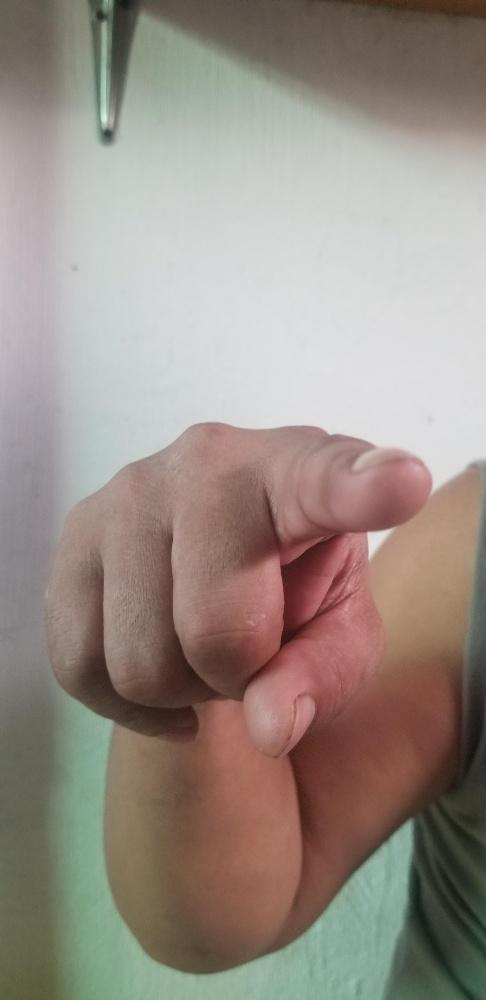z: (32, 415, 433, 762)
